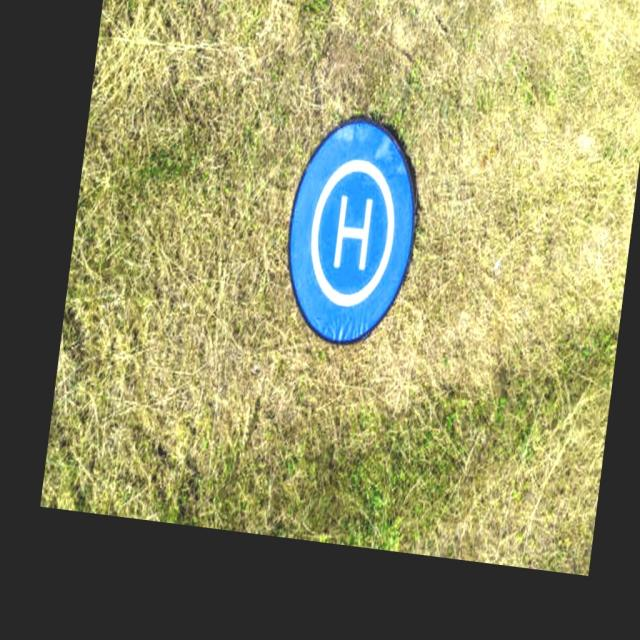helipad: (306, 156, 398, 310)
